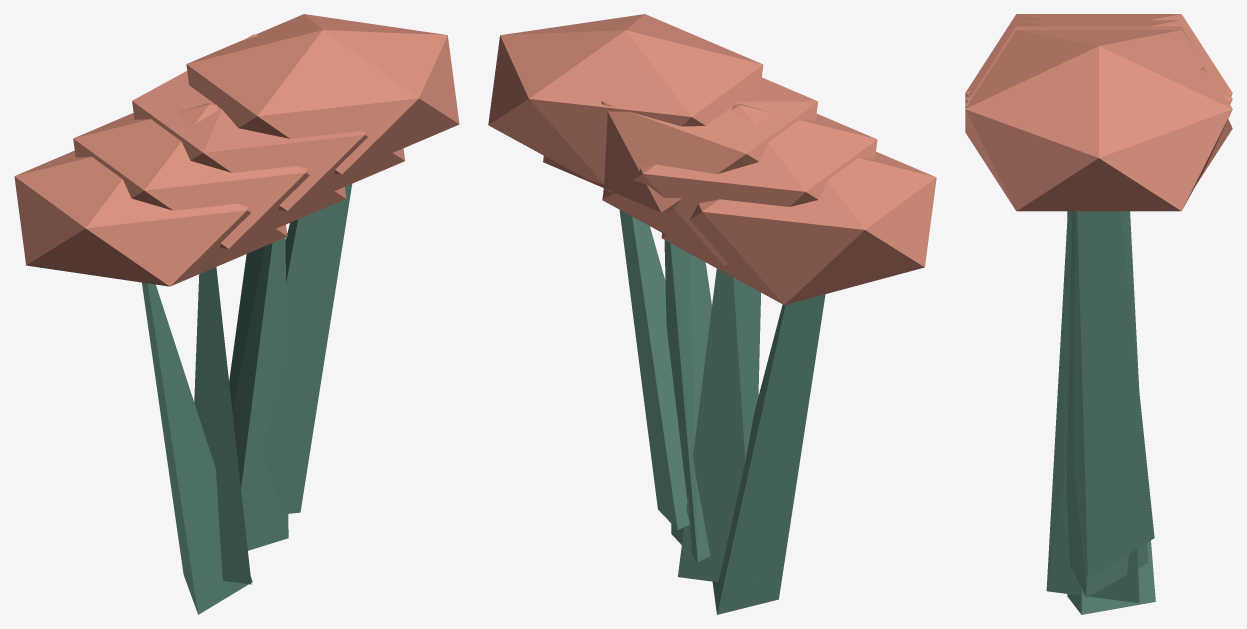
File: Plant_01_LOD1.fbx
The picture shows the model from 3 angles, left to right: view 1: azimuth 30°, elevation 25°; view 2: azimuth 150°, elevation 25°; view 3: azimuth 270°, elevation 25°; orthographic projection. The views are drawn at different scales.
Visible parts, largest first — view 1: Plant_01_LOD1; view 2: Plant_01_LOD1; view 3: Plant_01_LOD1.
Boxes of the visible parts, bbox=[...] form: Plant_01_LOD1: bbox=[14, 14, 459, 614]; Plant_01_LOD1: bbox=[488, 14, 936, 614]; Plant_01_LOD1: bbox=[965, 14, 1232, 614].
Size of the model in its own units: 151 by 185 by 71.45.
